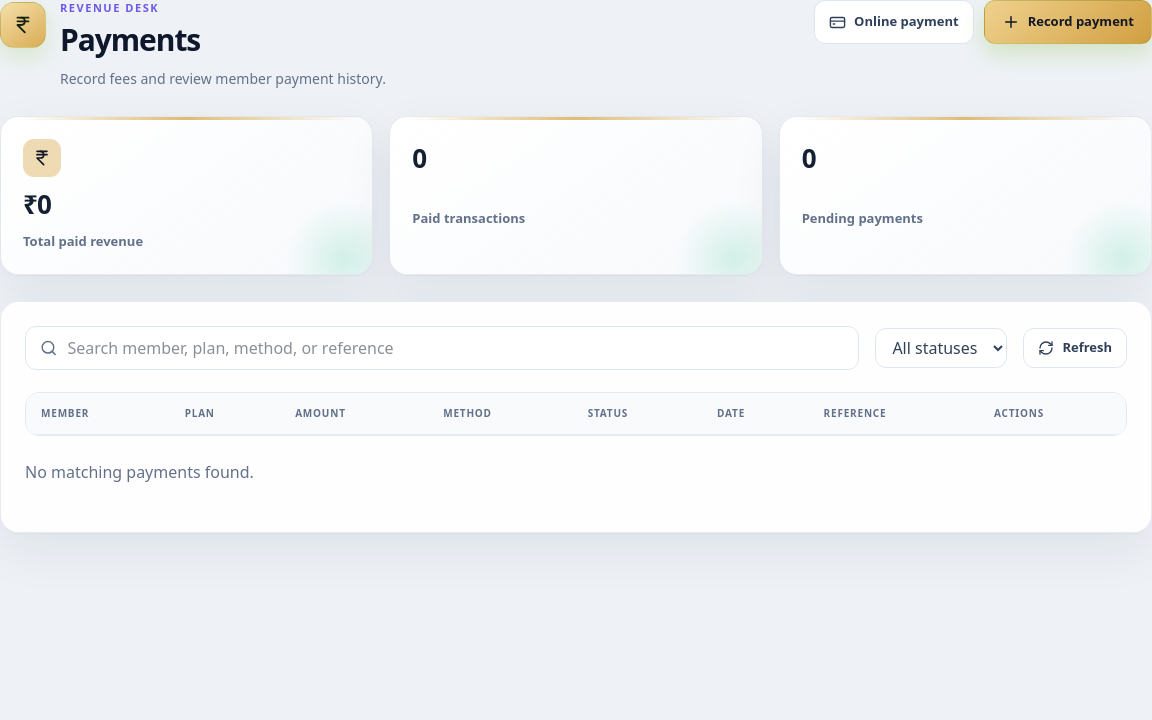
Test: Payments › opens Razorpay, verifies success and shows the generated receipt
The image size is (1152, 720).
Expected: the heading "Payments" is shown, [60,18,200,60]
Click the button "Online payment".
click(894, 22)  # box [814,0,974,44]
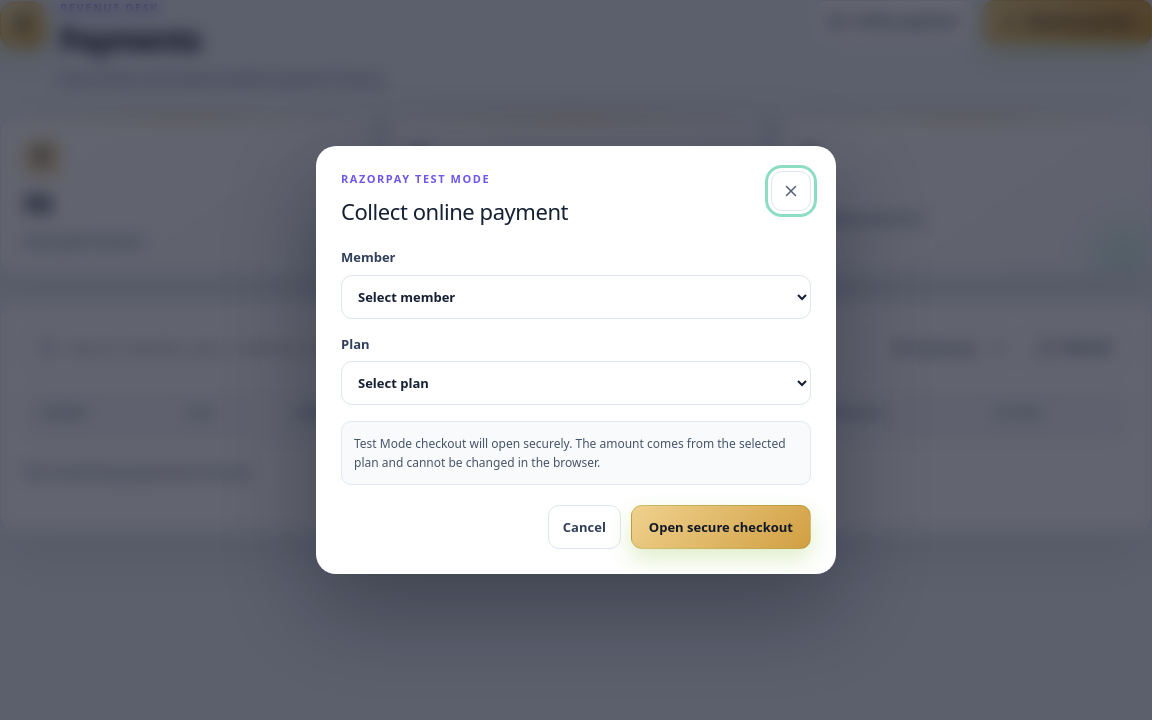
Select "Aman Singh · 9876543210" in the dropdown labelled "Member" at (576, 297), box [341,275,811,319]
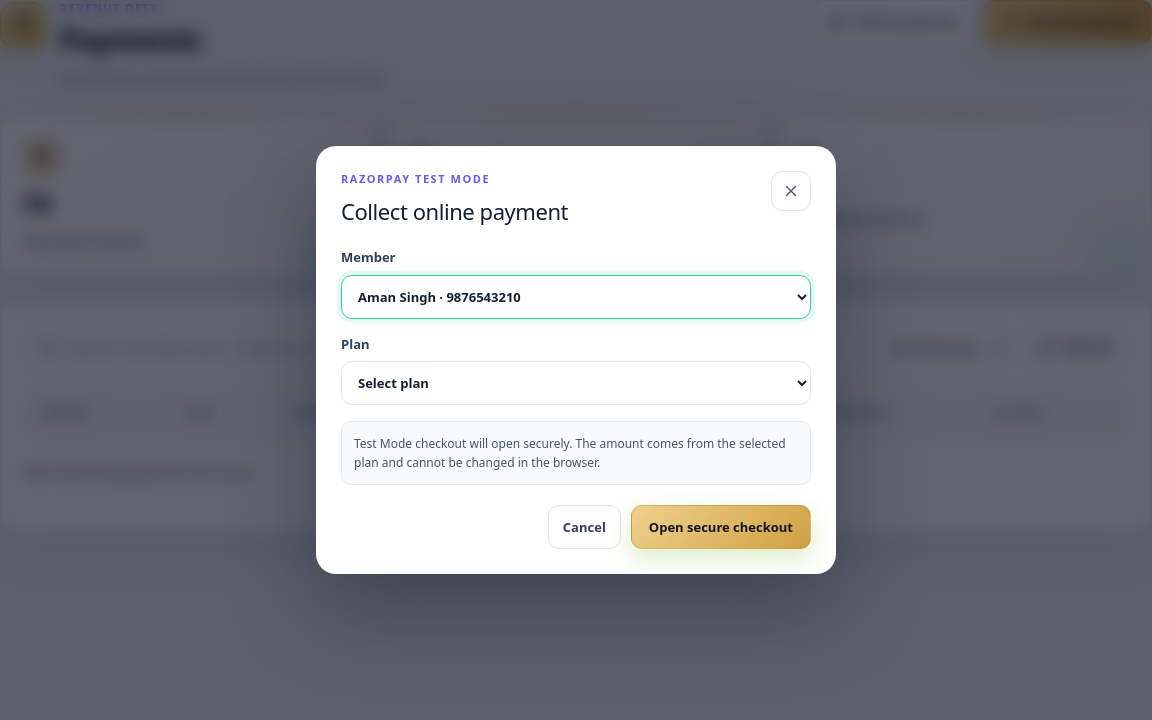
Select "Annual · ₹12,000" in the dropdown labelled "Plan" at (576, 383), box [341,361,811,405]
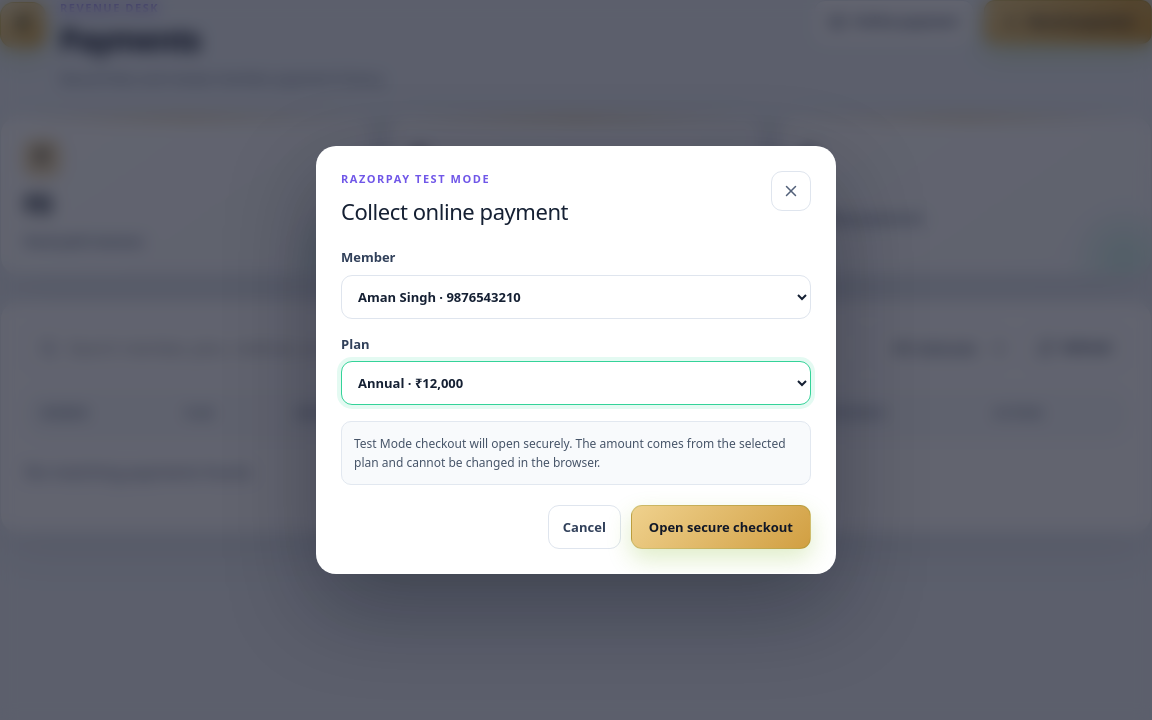
Click the button "Open secure checkout".
click(721, 527)  # box [631,505,811,549]
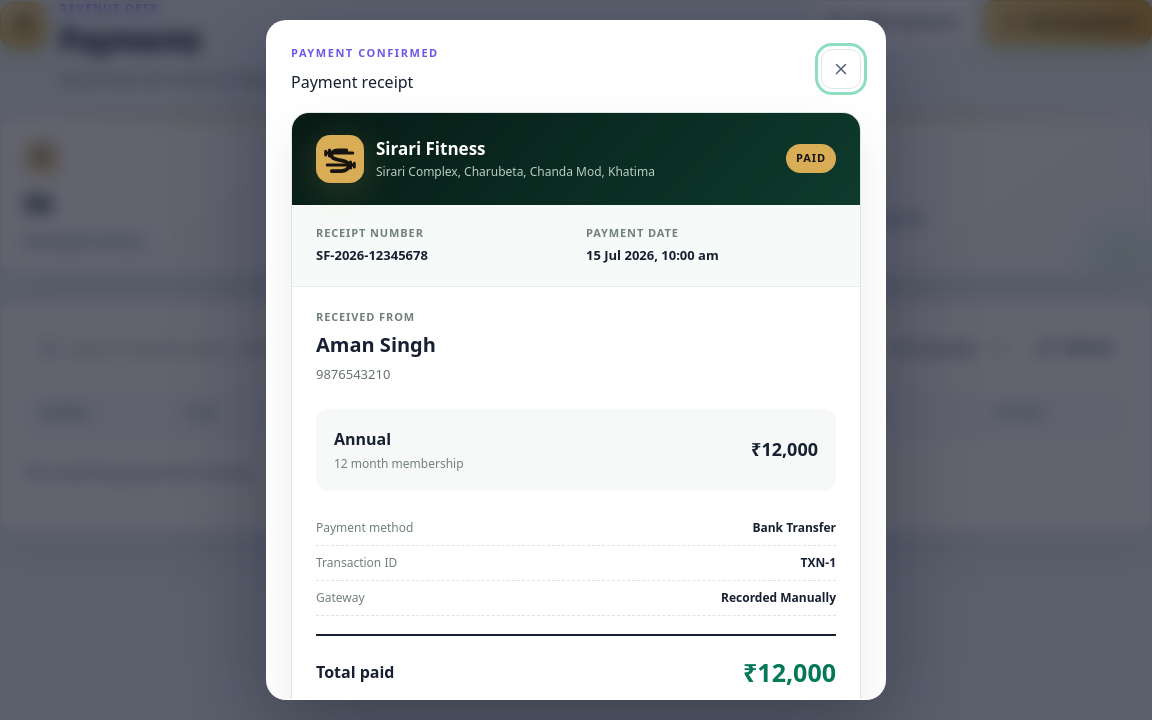
Expected: the heading "Payment receipt" is shown, [291,70,413,92]
